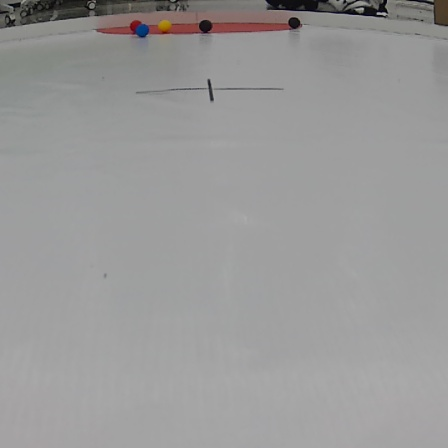black: (196, 14, 215, 33), (286, 15, 301, 31)
blue: (136, 22, 151, 39)
red: (130, 19, 143, 32)
red_base: (95, 21, 298, 35)
yellow: (156, 19, 173, 35)
